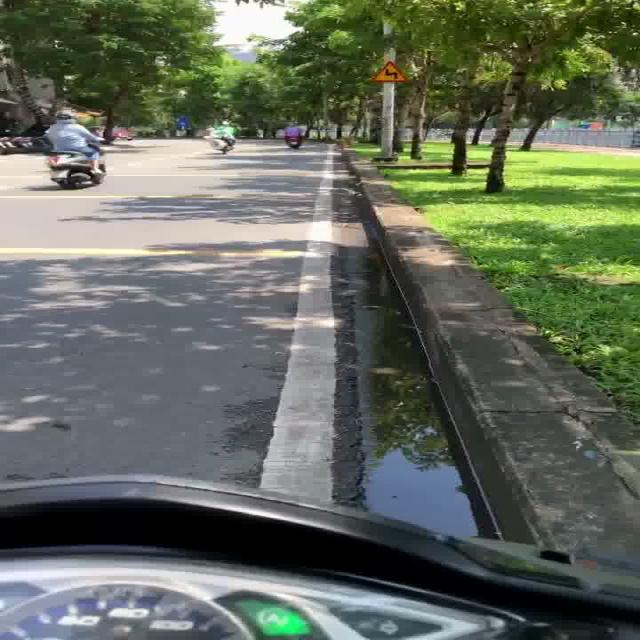Bien bao nhieu cho ngoat nguy hiem lien tiep: (372, 59, 411, 85)
